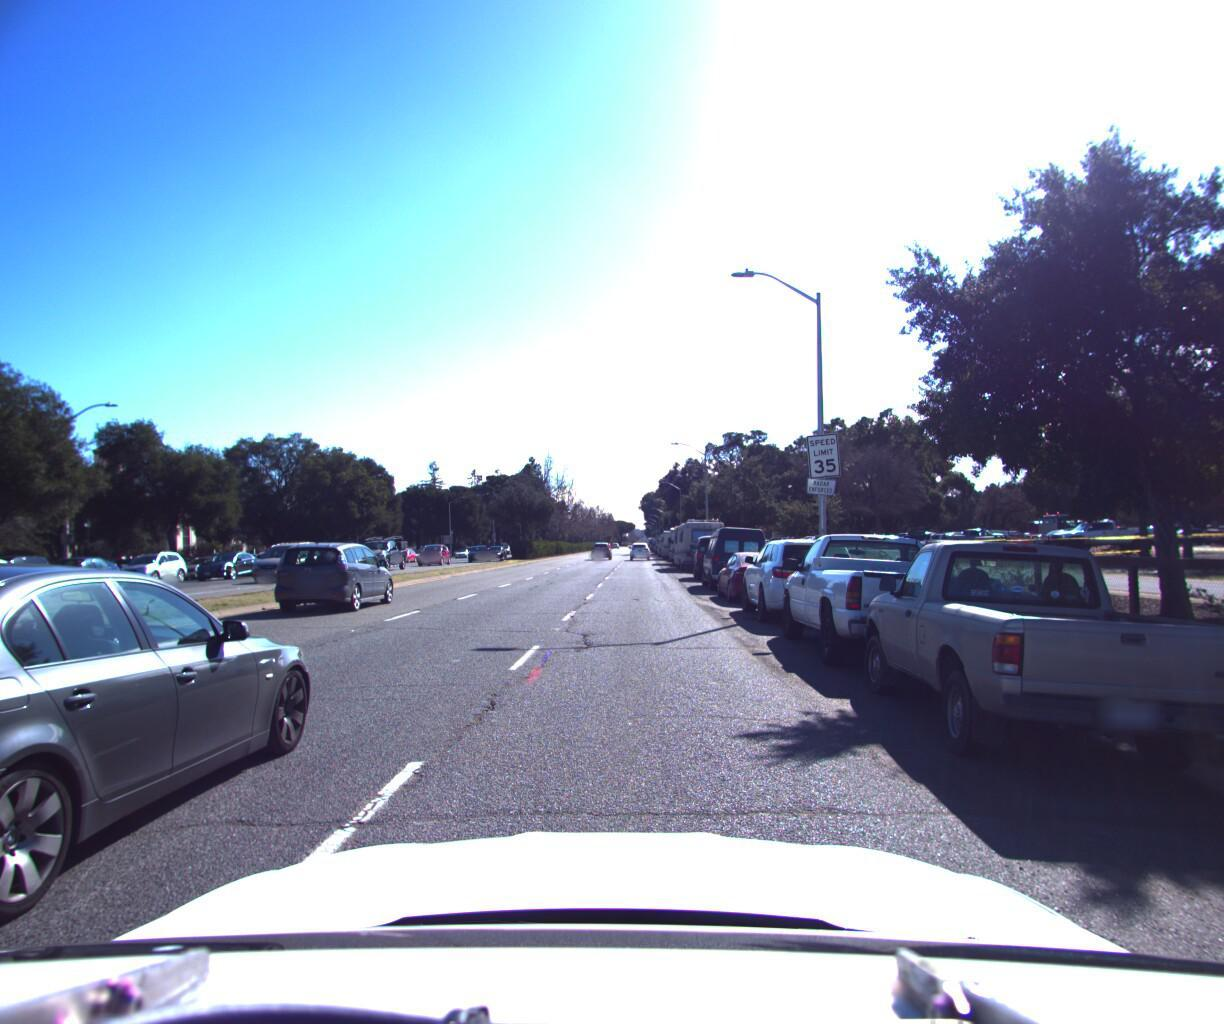car: (840, 526, 1224, 821), (762, 521, 1032, 682), (728, 527, 884, 627), (264, 525, 403, 613), (692, 517, 775, 589), (710, 542, 807, 602), (14, 550, 132, 593), (248, 535, 333, 579), (105, 544, 194, 582), (684, 526, 748, 577), (346, 530, 408, 568), (189, 546, 263, 578), (169, 548, 245, 578), (413, 537, 452, 561), (588, 536, 612, 555), (628, 537, 648, 555)
other_vehicle: (665, 511, 728, 565), (664, 514, 705, 561), (656, 520, 688, 554)
